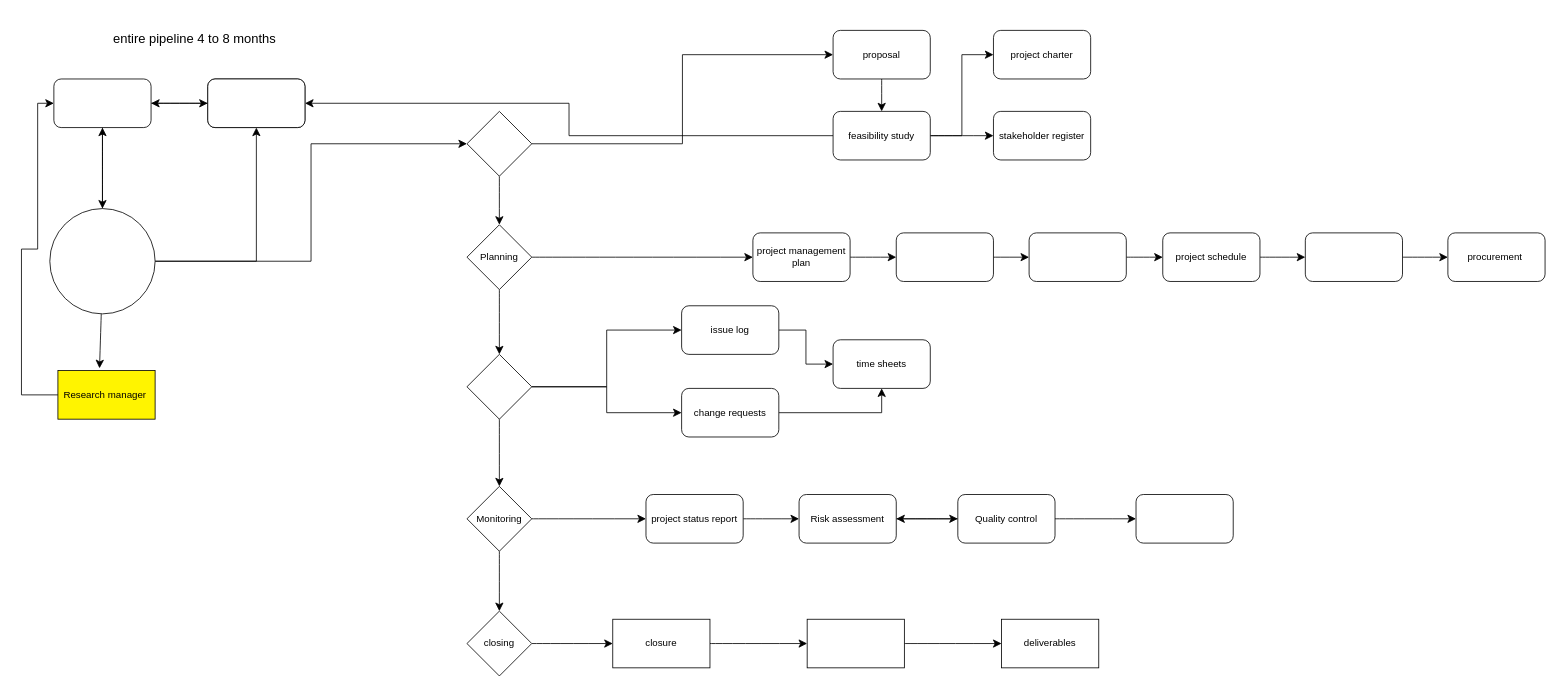
The diagram is 1559 pixels wide and 690 high, and some of its shapes have lost their labels. The shapes that lost their labels are listed below. From the top down, each one's centre as x and y in pixels, then its label:
(102,103): apart research
(256,103): apart research network
(499,143): Initiation
(102,261): research fellow
(944,256): scope
(1077,256): work breakdown
(1354,256): cost management
(499,386): Execution
(1184,518): kpis
(855,643): feedback
